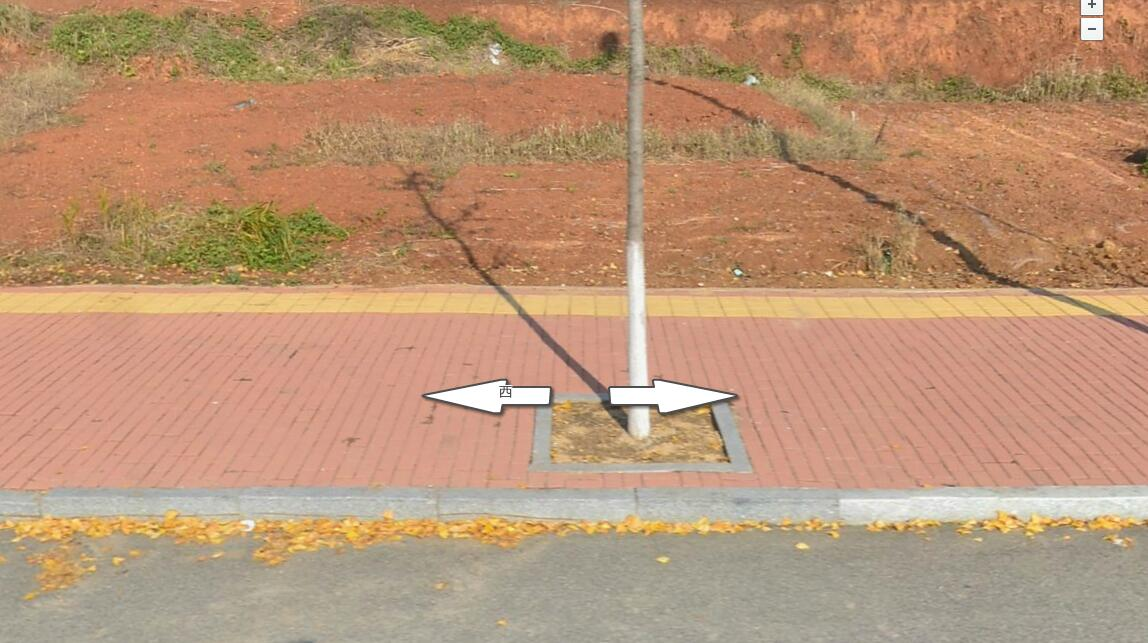side: (637, 486, 841, 526), (238, 487, 440, 520), (438, 489, 640, 522), (38, 489, 241, 519), (839, 487, 1004, 523)
